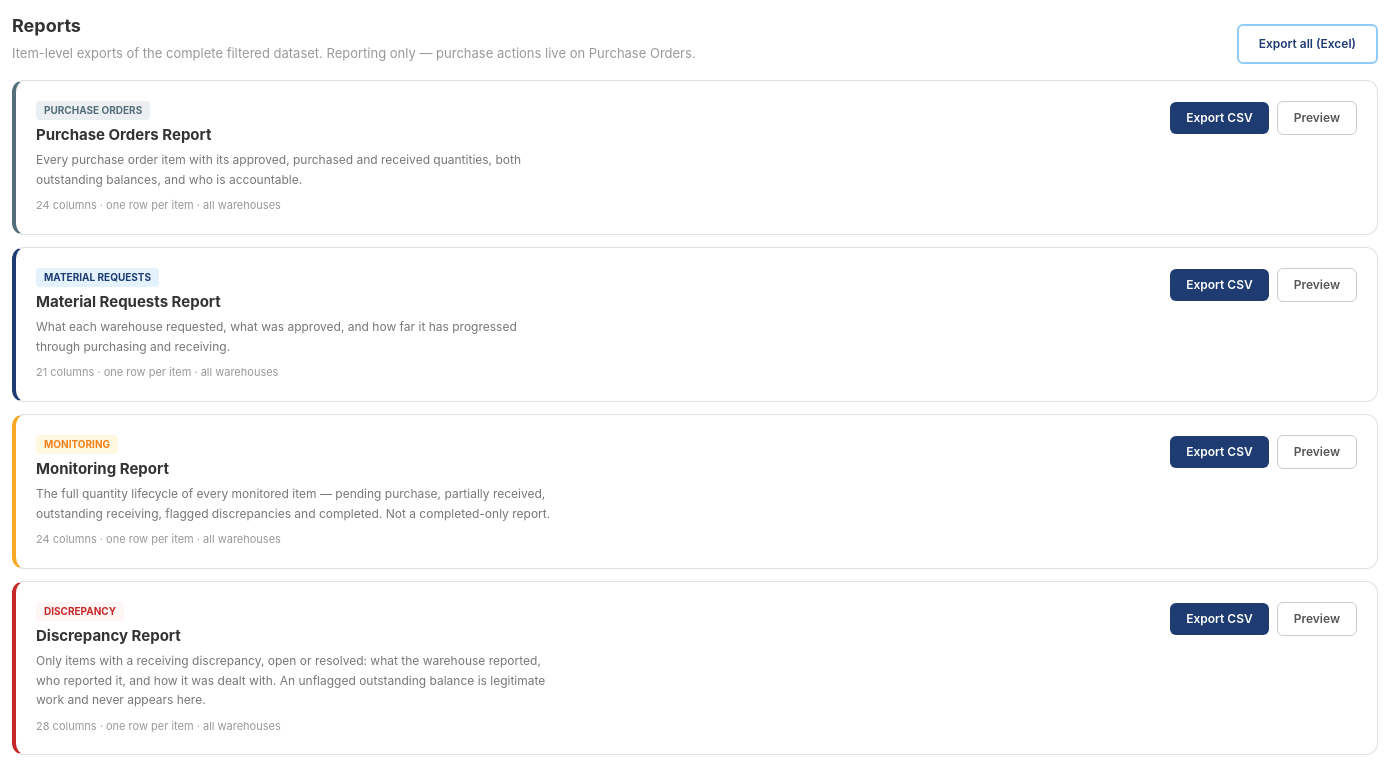
Scenario: P6-01 — XLSX workbook export › the post-download banner survives dismissal and never promises a full dataset
Click the button "Export all (Excel)": (1307, 44) [1237, 24, 1378, 64]
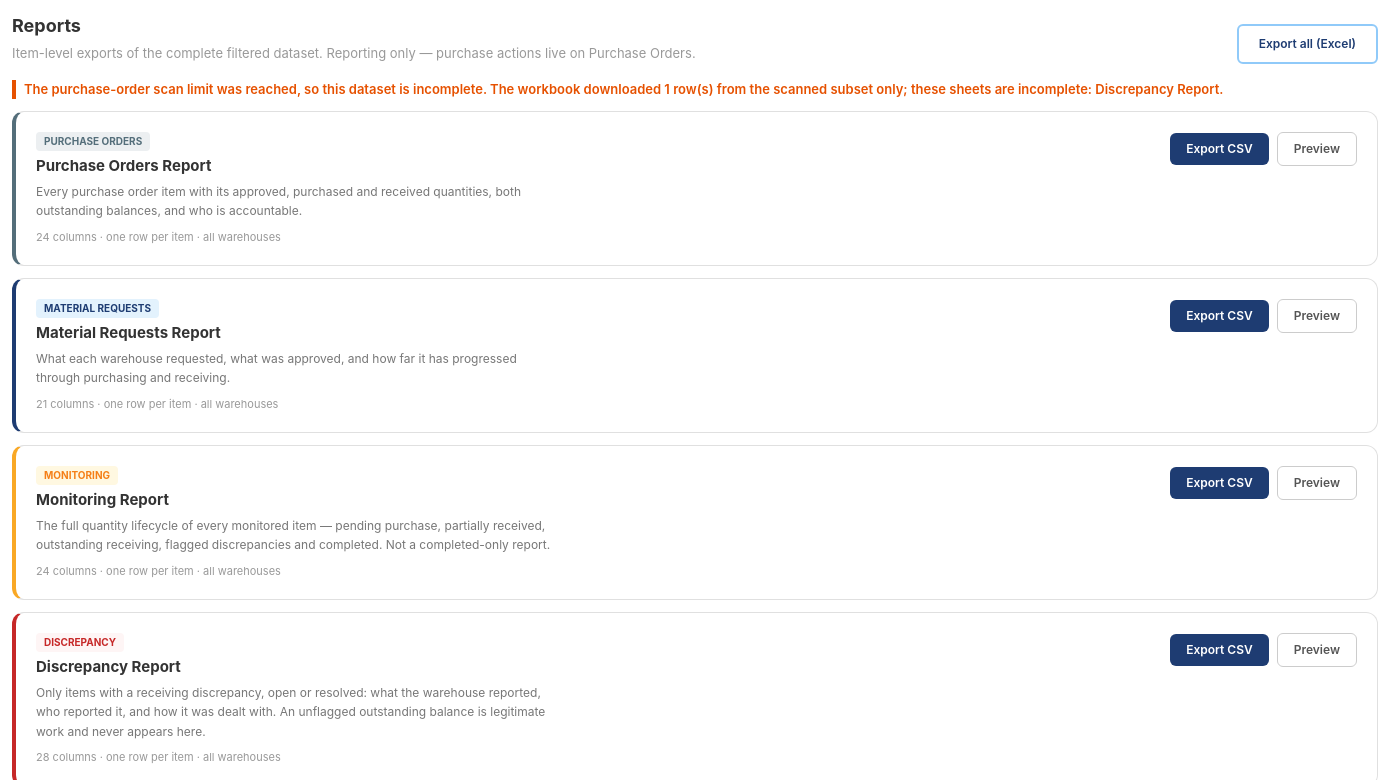
Result: the message shows "scan limit was reached" at [24, 80, 1223, 96]
Result: the message shows "Discrepancy Report" at [24, 80, 1223, 96]
